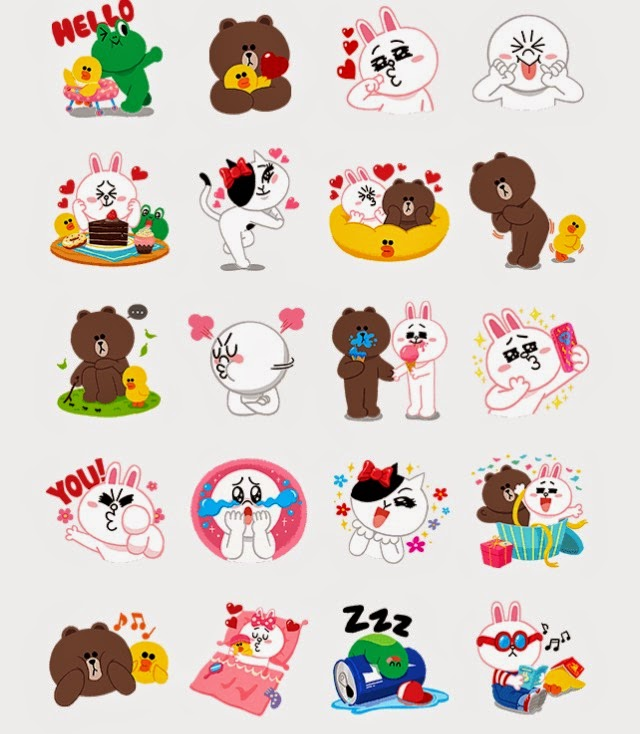line_brown: (40, 614, 145, 715), (200, 8, 299, 95), (464, 147, 543, 221), (63, 298, 142, 370), (328, 300, 395, 361), (380, 174, 442, 233)
